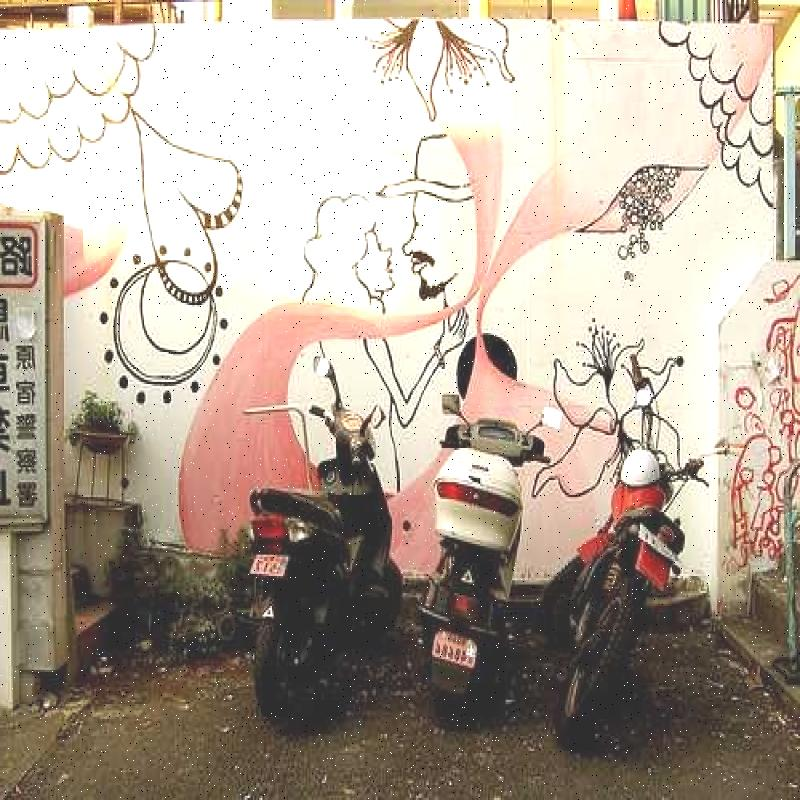bike: (248, 363, 399, 722), (561, 399, 709, 706), (415, 379, 562, 661)
